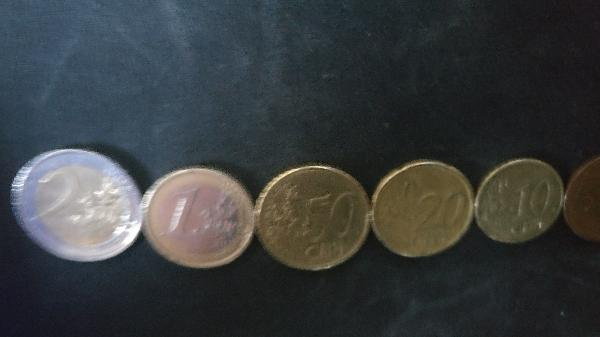Fifty Cent: (256, 162, 370, 274)
Five Cent: (564, 154, 600, 247)
One Euro: (145, 165, 257, 277)
Ten Cent: (473, 155, 564, 250)
Twenty Cent: (372, 157, 476, 266)
Two Euro: (12, 150, 144, 265)
